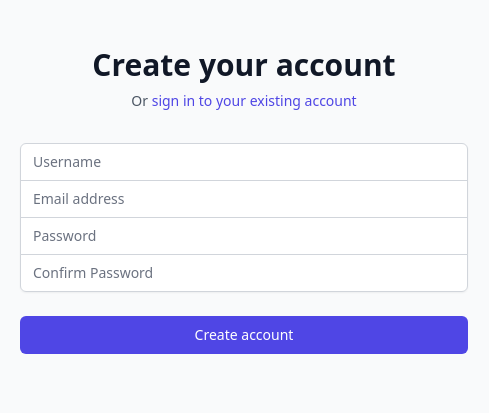
Authentication Tests › Registration Functionality › should show error with short password
This screenshot has width=489, height=413.
In the field named "username": (244, 162) [20,143,468,181], type "testuser"
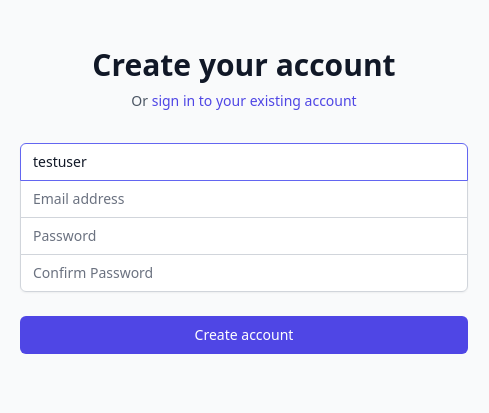
In the field named "email": (244, 199) [20,180,468,218], type "test@example.com"
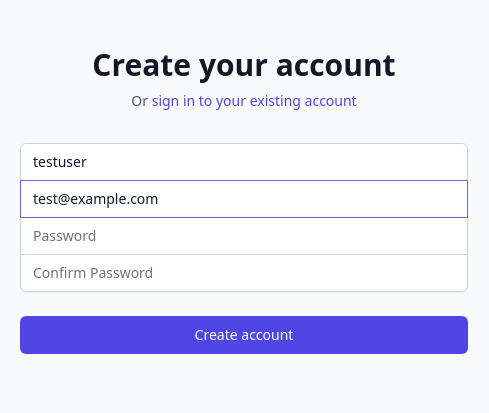
In the password field named "password": (244, 236) [20,217,468,255], type "123"
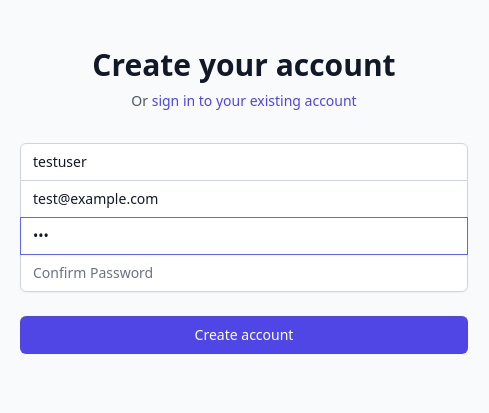
In the password field named "confirmPassword": (244, 273) [20,254,468,292], type "123"
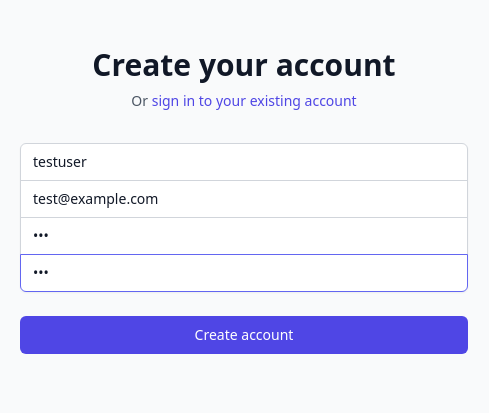
Click the button with test id "register-button": click(244, 335) [20,316,468,354]
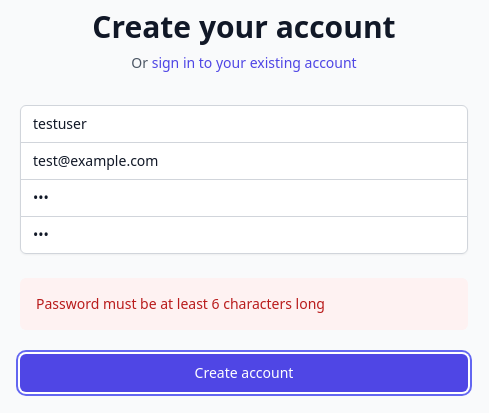
Now the element showing "Password must be at least 6 characters long" is shown, box [20,278,468,330]
Now the text "Password must be at least 6 characters long" is shown, box [36,294,325,312]
